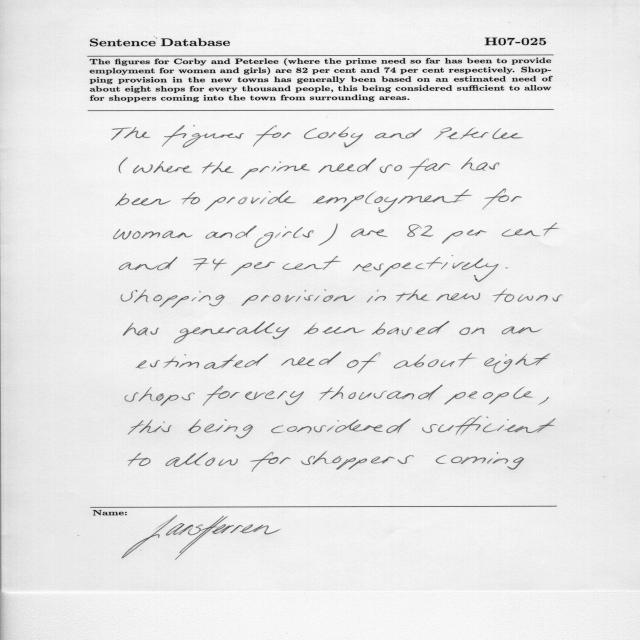word: (353, 255, 499, 282), (313, 189, 472, 213), (422, 416, 555, 436), (174, 321, 290, 343), (271, 419, 411, 434), (301, 452, 414, 470), (136, 354, 268, 369), (242, 289, 356, 306), (205, 190, 296, 211), (162, 125, 244, 148), (121, 290, 225, 308), (319, 385, 443, 400), (444, 387, 533, 405), (436, 452, 524, 470), (125, 387, 195, 406), (254, 226, 314, 248), (484, 354, 550, 374), (304, 127, 363, 148), (188, 419, 253, 438), (394, 353, 476, 368), (241, 162, 310, 179), (434, 127, 524, 140), (166, 452, 238, 467), (372, 321, 449, 335), (493, 289, 562, 302), (408, 159, 450, 180), (319, 158, 377, 173), (114, 229, 193, 240), (482, 189, 522, 210), (281, 352, 341, 366), (253, 125, 291, 147), (245, 391, 304, 405), (250, 452, 291, 472), (283, 256, 341, 270), (120, 257, 178, 270), (502, 223, 559, 236), (203, 386, 240, 406), (304, 323, 365, 335), (116, 193, 171, 206), (347, 353, 381, 374), (133, 161, 192, 173), (206, 226, 257, 239), (128, 420, 172, 435), (442, 230, 487, 244), (231, 262, 275, 276), (375, 128, 422, 139), (112, 127, 151, 140), (461, 158, 499, 171), (124, 323, 160, 336), (318, 224, 338, 246), (194, 258, 227, 271), (396, 290, 429, 302), (203, 162, 234, 174), (436, 293, 480, 301), (407, 224, 433, 237), (502, 327, 542, 335), (351, 229, 388, 237), (129, 453, 151, 466), (367, 290, 386, 303), (181, 192, 200, 204), (459, 327, 485, 335), (380, 165, 402, 173), (119, 158, 128, 173), (538, 397, 549, 405), (506, 267, 508, 269)
